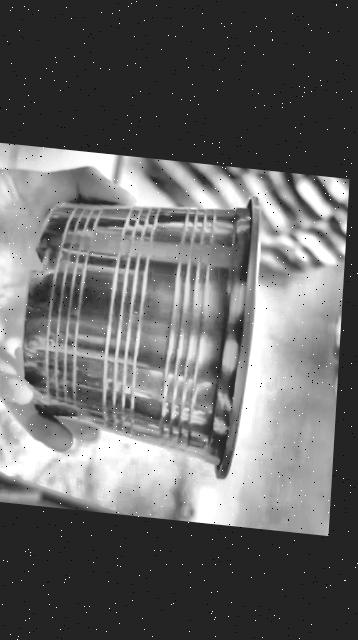pot: (24, 197, 260, 476)
